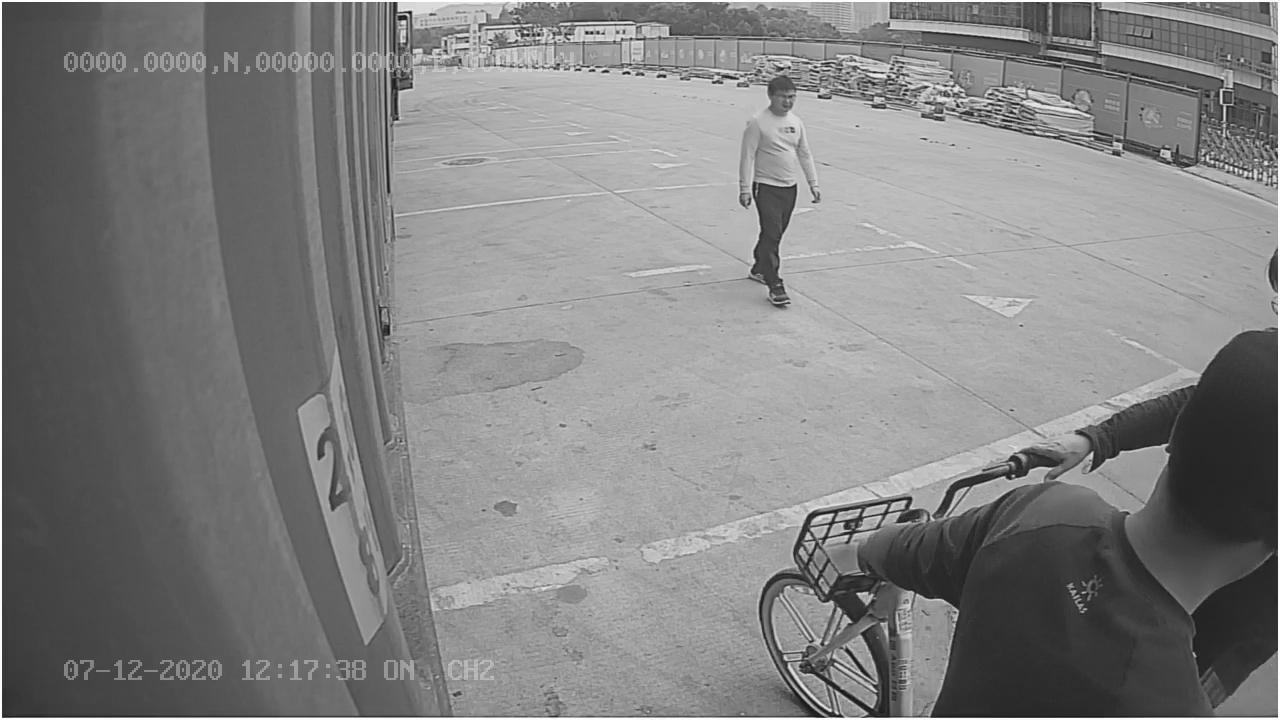person: (734, 69, 824, 311)
